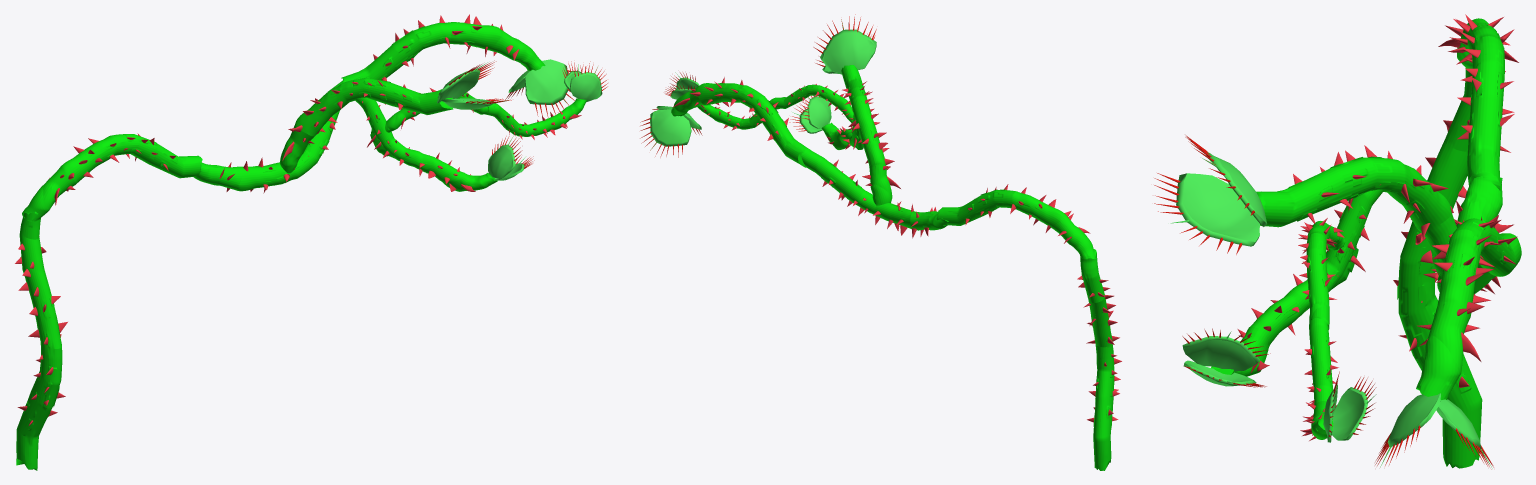
File: Vine3Redo.fbx
3 views of the same model, side by side, from view 1: azimuth 30°, elevation 25°; view 2: azimuth 150°, elevation 25°; view 3: azimuth 270°, elevation 25° (orthographic). The views are drawn at different scales.
Parts seen in each view (by area): view 1: Cylinder, Cylinder.007, Cylinder.001, Cylinder.003, Cylinder.002, Cylinder.004, side2.007, Cylinder.006, side2.003, side2.005, side2.001, Cylinder.005; view 2: Cylinder, Cylinder.001, Cylinder.007, Cylinder.002, Cylinder.003, side2.003, side2.006, Cylinder.005, Cylinder.006, Cylinder.004, side2.001; view 3: Cylinder, Cylinder.007, Cylinder.003, Cylinder.001, Cylinder.004, side2.002, Cylinder.005, Cylinder.006, Cylinder.002, side2.001, side2.007, side2.004 (+4 smaller).
Part boxes in pixels (x1,y1,x2,y2): Cylinder: (15,212,67,470); Cylinder.007: (341,14,545,82); Cylinder.001: (22,133,202,221); Cylinder.003: (280,76,453,173); Cylinder.002: (193,80,342,193); Cylinder.004: (355,97,497,191); side2.007: (525,59,574,117); Cylinder.006: (484,98,587,139); side2.003: (437,60,496,103); side2.005: (570,61,607,101); side2.001: (488,136,522,179); Cylinder.005: (385,88,495,132); Cylinder: (1077,249,1121,470); Cylinder.001: (936,184,1096,259); Cylinder.007: (671,77,810,167); Cylinder.002: (801,150,948,238); Cylinder.003: (841,65,900,205); side2.003: (813,14,876,74); side2.006: (640,109,691,157); Cylinder.005: (771,84,853,123); Cylinder.006: (697,97,785,130); Cylinder.004: (821,114,863,149); side2.001: (800,96,831,128); Cylinder: (1393,68,1482,468); Cylinder.007: (1416,215,1521,399); Cylinder.003: (1256,145,1456,275); Cylinder.001: (1438,14,1518,190); Cylinder.004: (1211,189,1383,376); side2.002: (1154,173,1259,254); Cylinder.005: (1298,218,1345,329); Cylinder.006: (1300,303,1338,440); Cylinder.002: (1423,176,1513,295); side2.001: (1182,328,1270,371); side2.007: (1375,393,1441,467); side2.004: (1332,377,1376,440).
Size of the model in its own units: 2067 by 1339 by 724.
